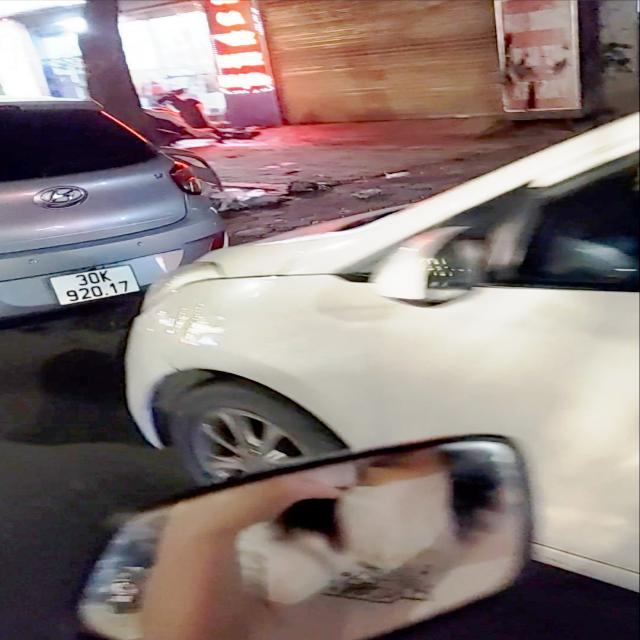license_plate: (47, 262, 145, 308)
